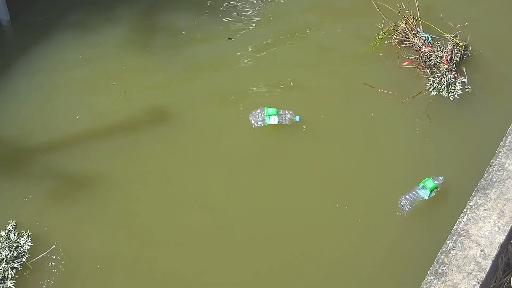plastic: (387, 173, 444, 216), (250, 105, 310, 128)
twig: (358, 0, 485, 99), (0, 219, 62, 288)
